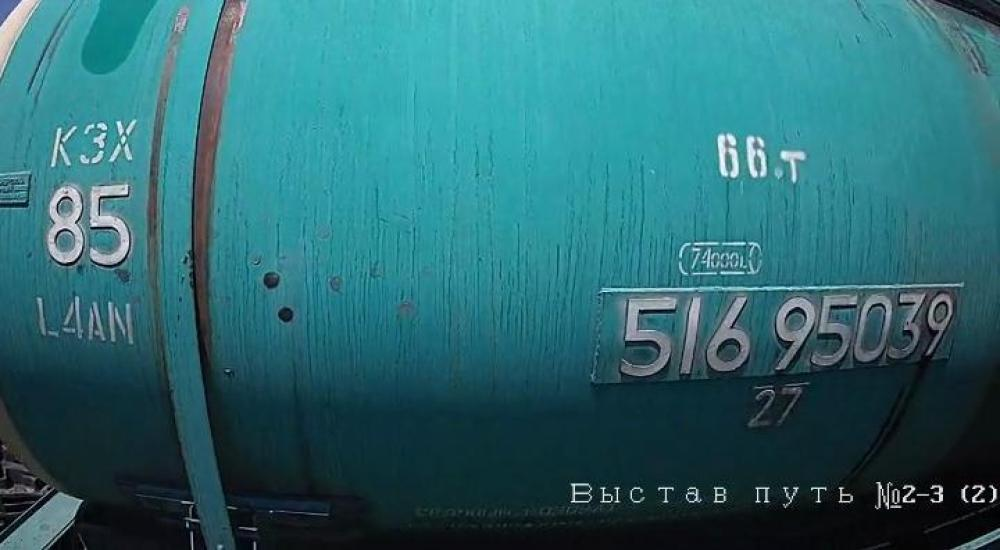Wagon-number: (606, 290, 960, 382)
